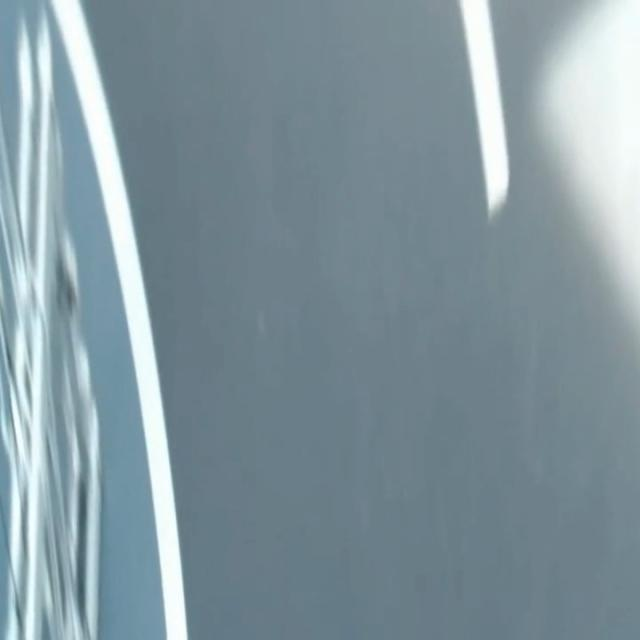center: (459, 0, 508, 217)
left: (51, 0, 187, 639)
